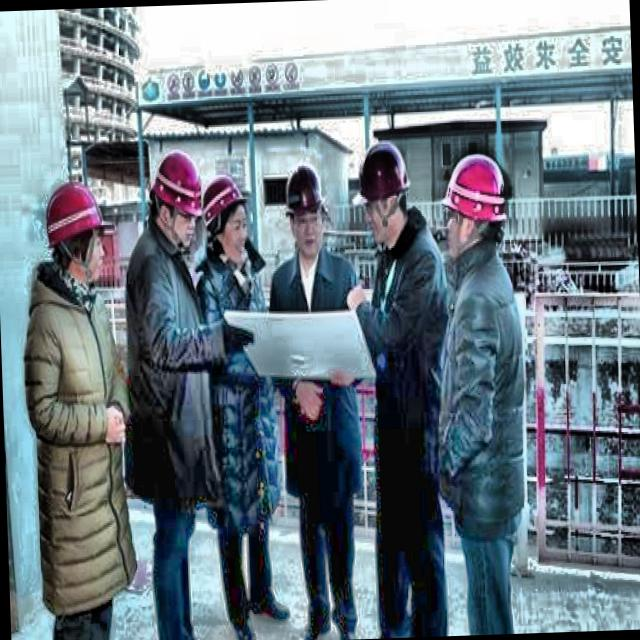helmet: (438, 145, 511, 261), (41, 177, 109, 290), (353, 135, 412, 242), (146, 144, 205, 250), (285, 158, 327, 262), (204, 172, 252, 260)
